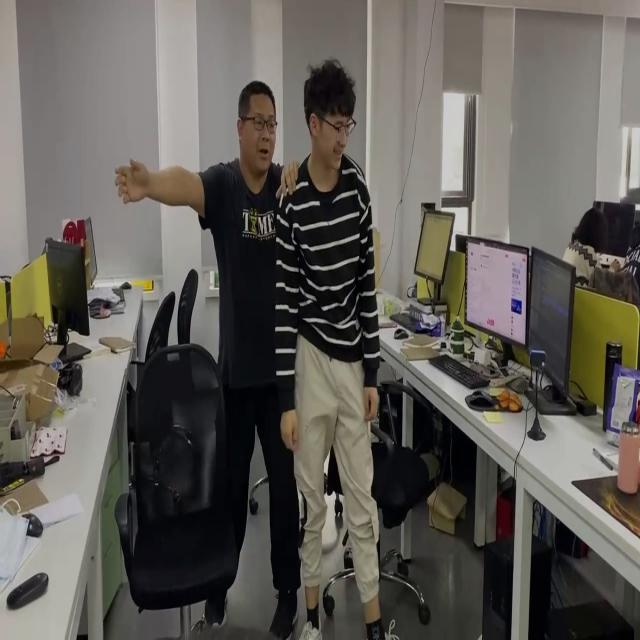fight: (107, 56, 380, 636)
